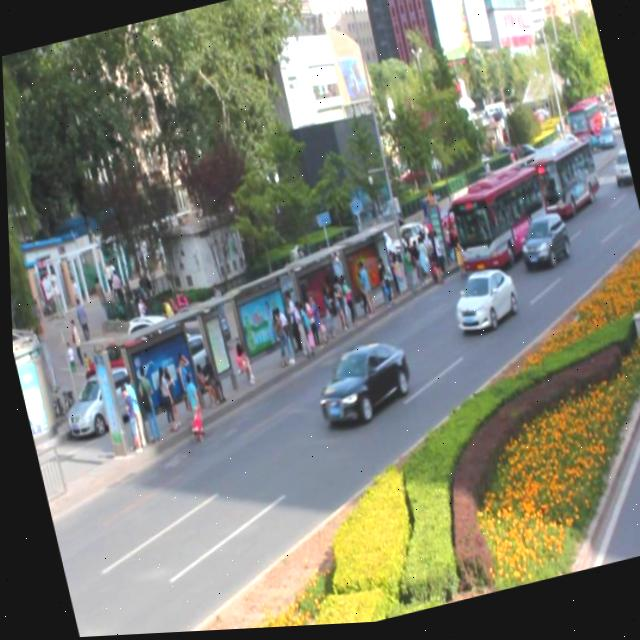car: (305, 338, 413, 436), (444, 266, 518, 342), (512, 217, 569, 275)
van: (436, 168, 551, 288), (520, 138, 603, 231)
